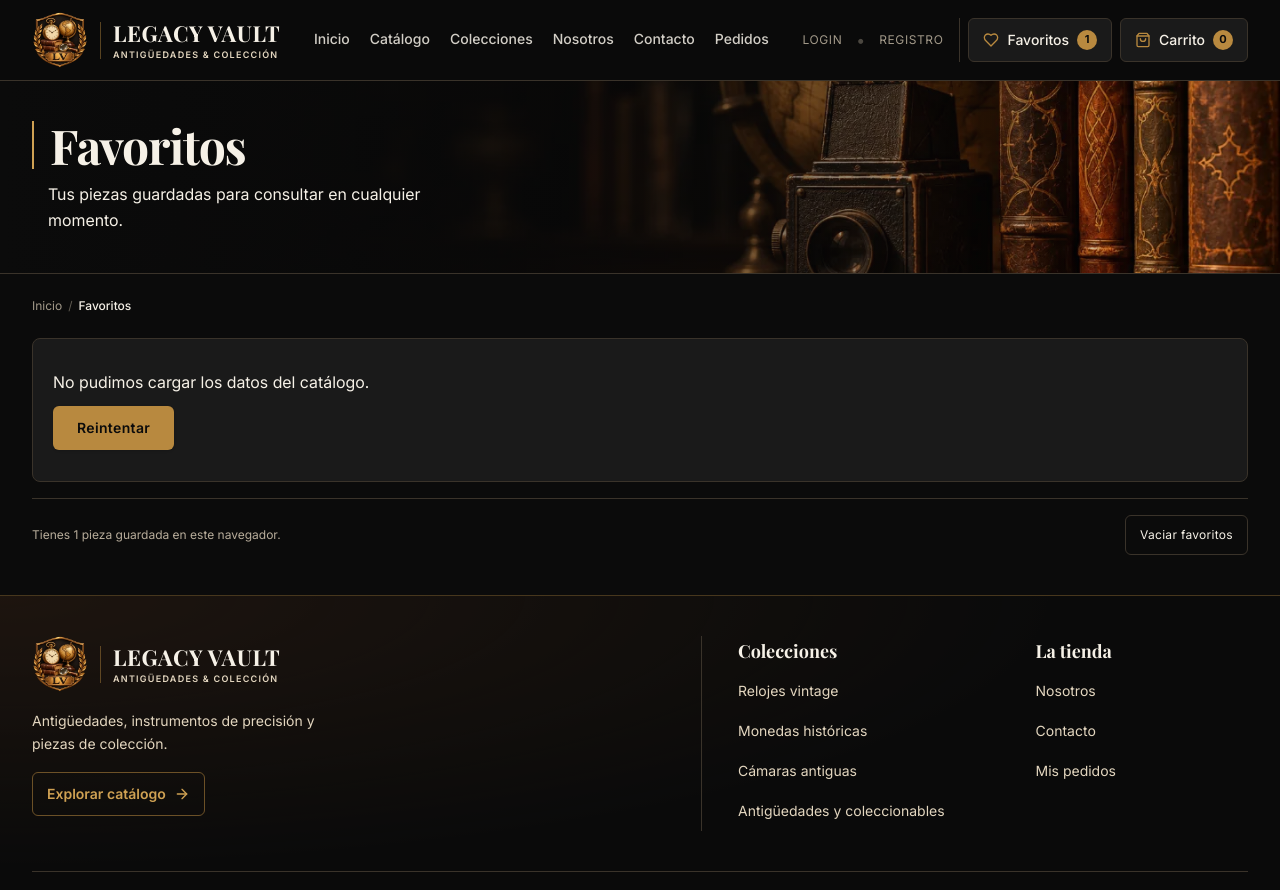
favoritos en las rutas reales › permite vaciar explícitamente los favoritos ante fallo de la API
The image size is (1280, 890).
Expected: the message "No pudimos cargar los datos del catálogo." is shown, [53,370,369,394]
Click the button "Vaciar favoritos": coordinates (1186, 535) [1125,515,1248,555]
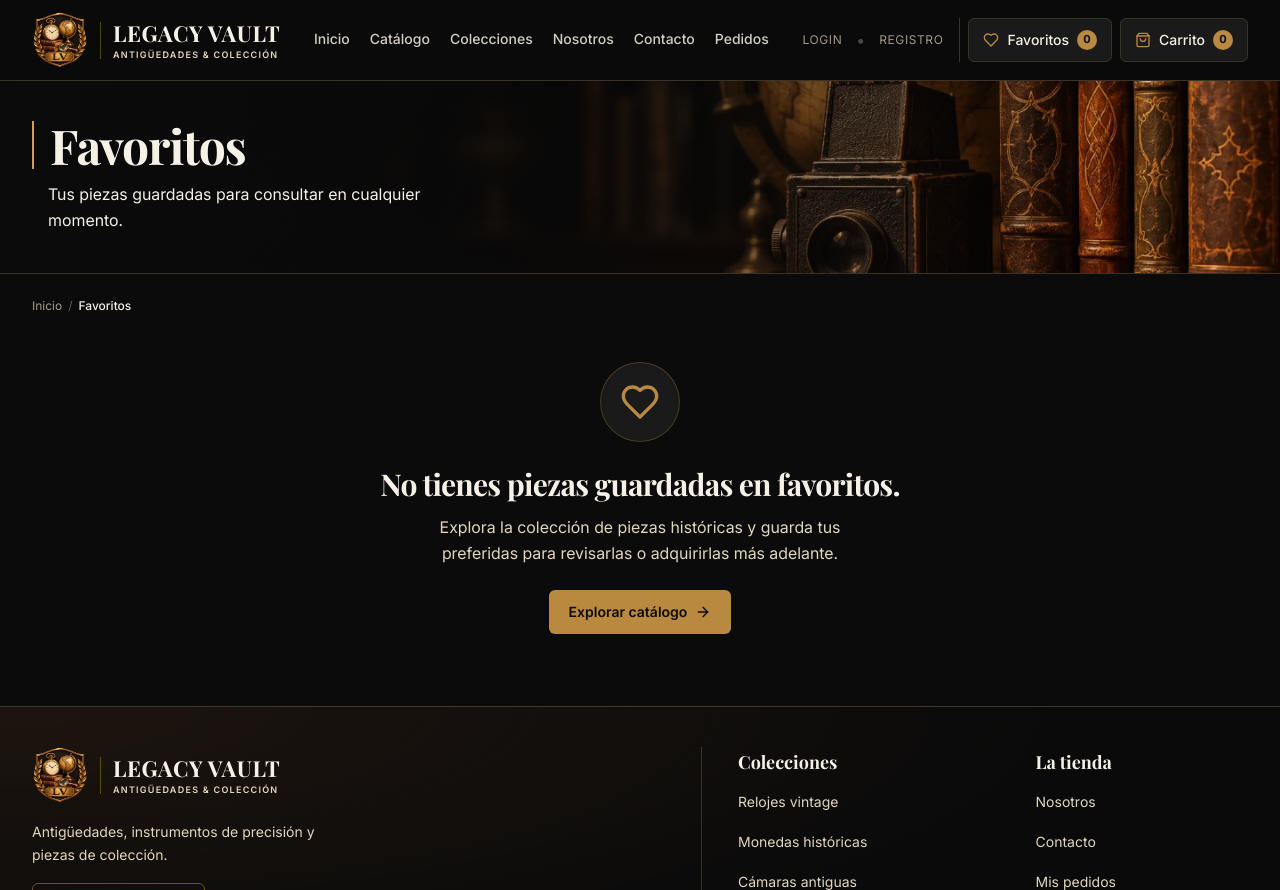
Now the heading "No tienes piezas guardadas en favoritos." is shown, box [380,466,900,502]
